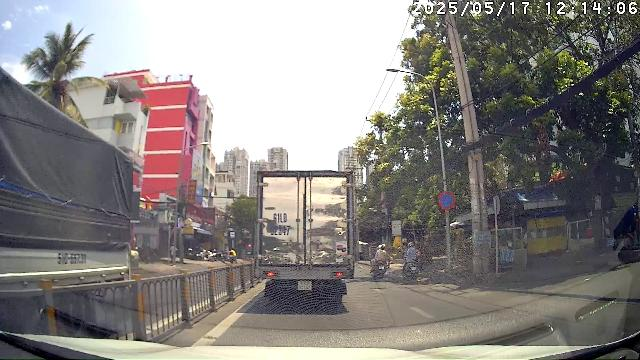131a-cam-do-xe: (438, 191, 456, 210)
